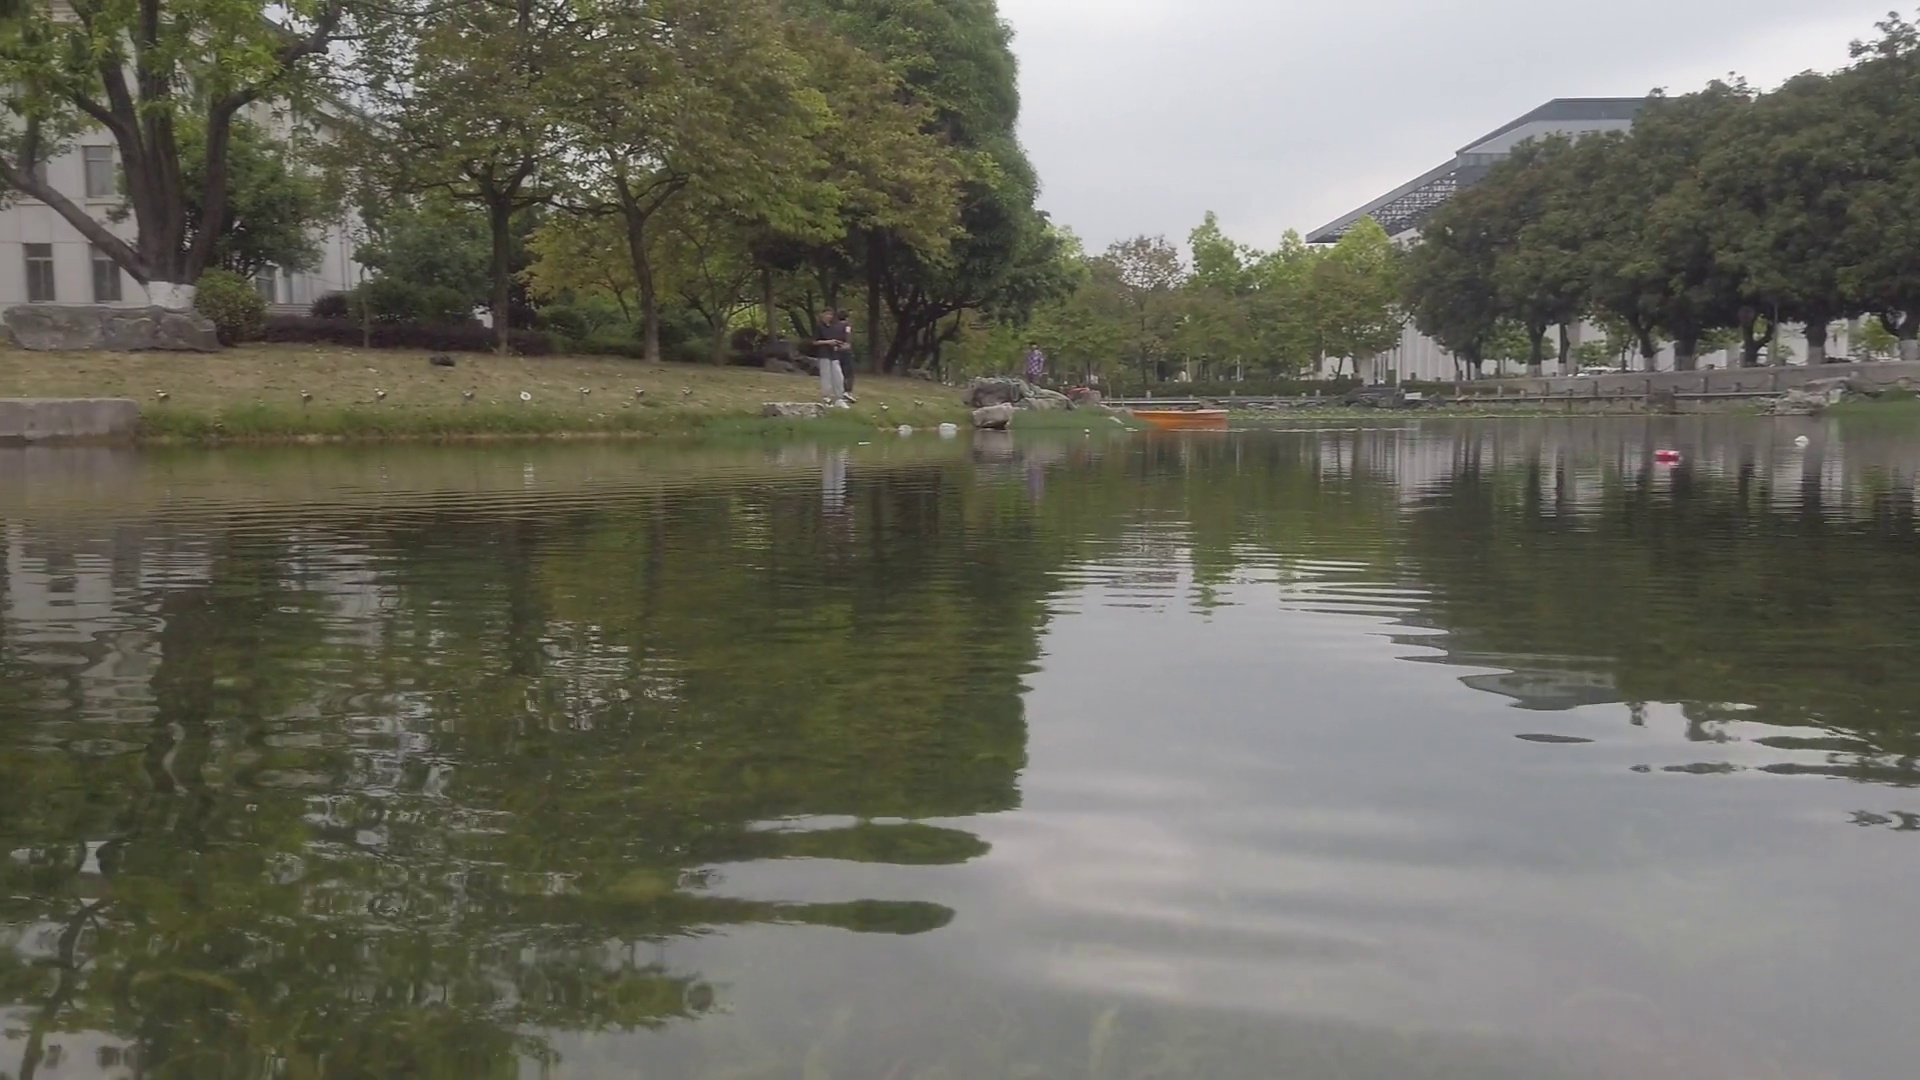bottle: (1654, 448, 1681, 462), (1085, 429, 1091, 435)
paper: (858, 439, 872, 446)
plastic: (1795, 434, 1808, 447), (939, 422, 957, 431), (899, 426, 911, 433)
